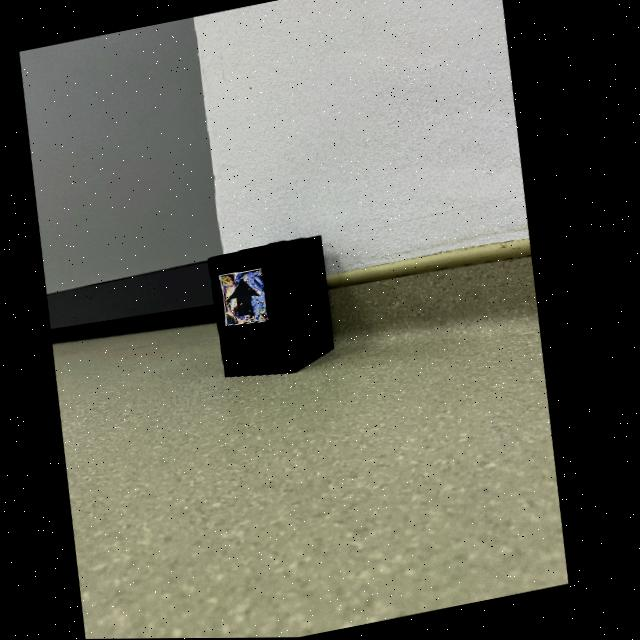UP: (235, 280, 265, 317)
